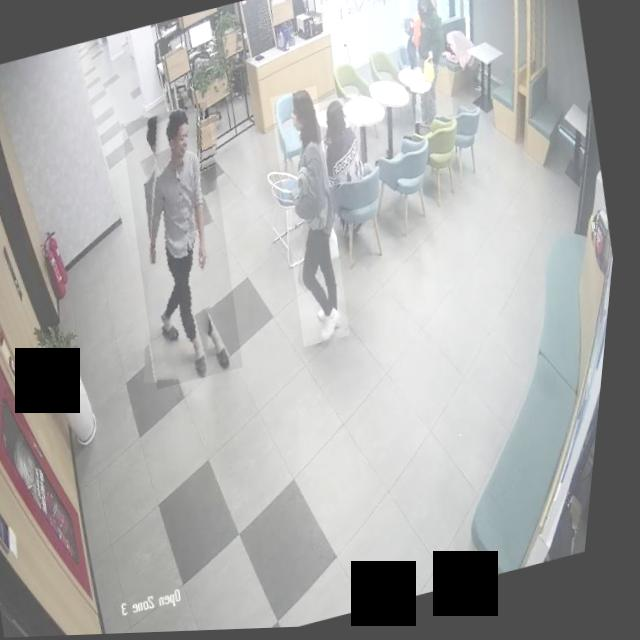person: (102, 101, 270, 392), (253, 86, 376, 351), (386, 0, 466, 127), (309, 95, 378, 192)
